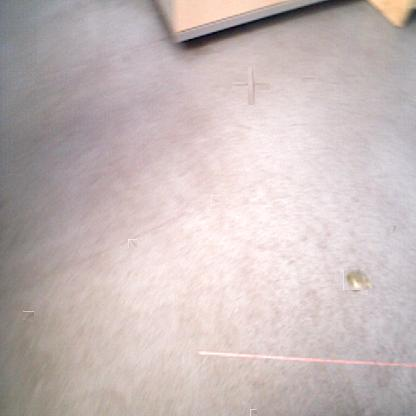dirty: (346, 268, 370, 293)
mark: (240, 74, 262, 98), (23, 311, 34, 321), (211, 195, 222, 204), (302, 76, 318, 82), (128, 239, 137, 248), (390, 224, 398, 232), (250, 409, 257, 416)
